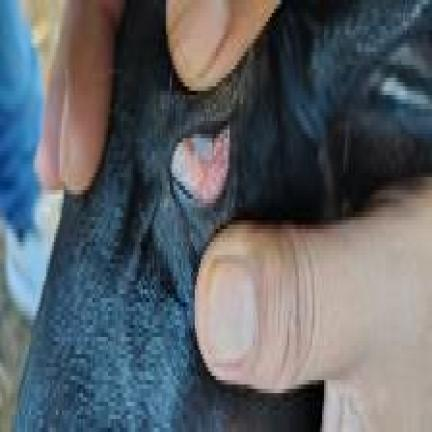goat-eye-anemia-22222222: (168, 121, 235, 199)
